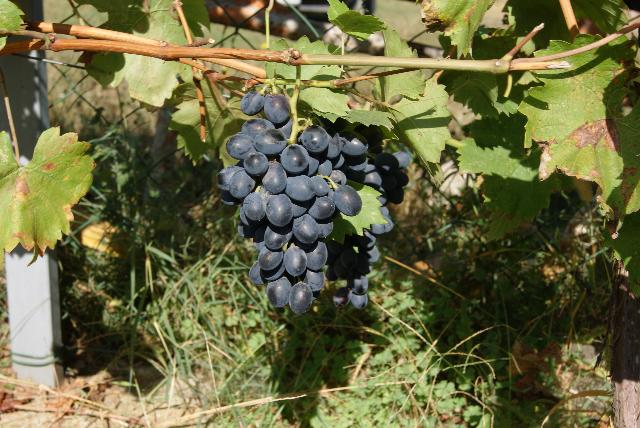grapes: (218, 91, 376, 314), (325, 145, 411, 309)
